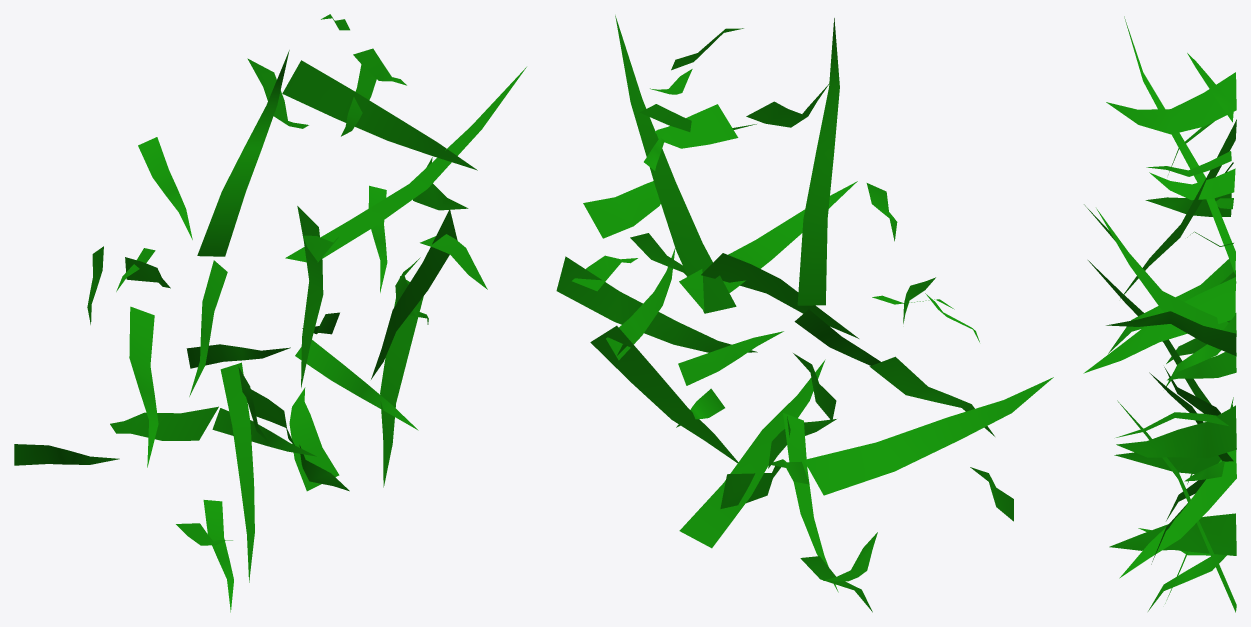
The model's file is grass3.glb.
3 views of the same model, side by side, from view 1: azimuth 30°, elevation 25°; view 2: azimuth 150°, elevation 25°; view 3: azimuth 270°, elevation 25° (orthographic). The views are drawn at different scales.
Visible parts, largest first — view 1: Object_2; view 2: Object_2; view 3: Object_2.
Part boxes in pixels (x1,y1,x2,y2): Object_2: (14,14,526,612); Object_2: (556,15,1053,612); Object_2: (1083,16,1236,612).
Bounding box in the file's own units: 0.0704 × 0.0836 × 0.0186.
